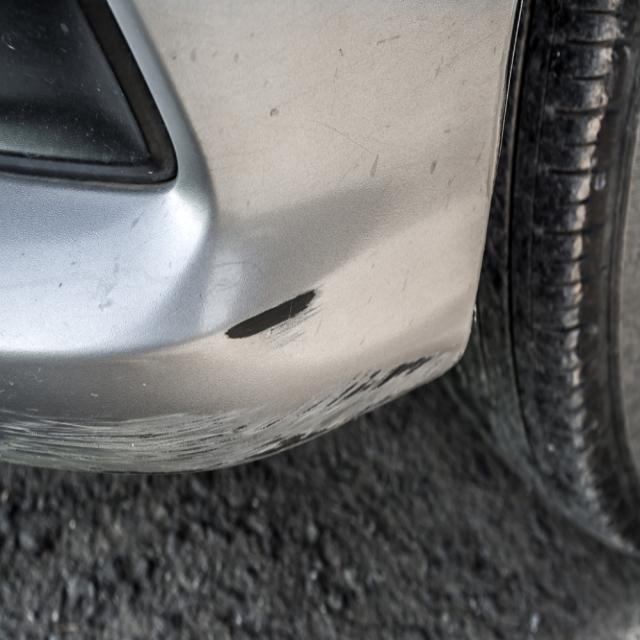scratch: (0, 350, 462, 477), (223, 281, 327, 344)
